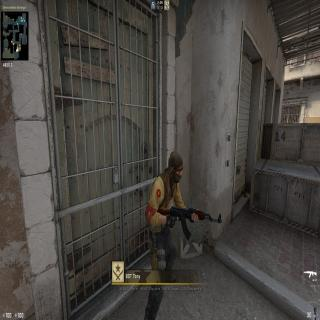T-Head: (167, 148, 184, 188)
